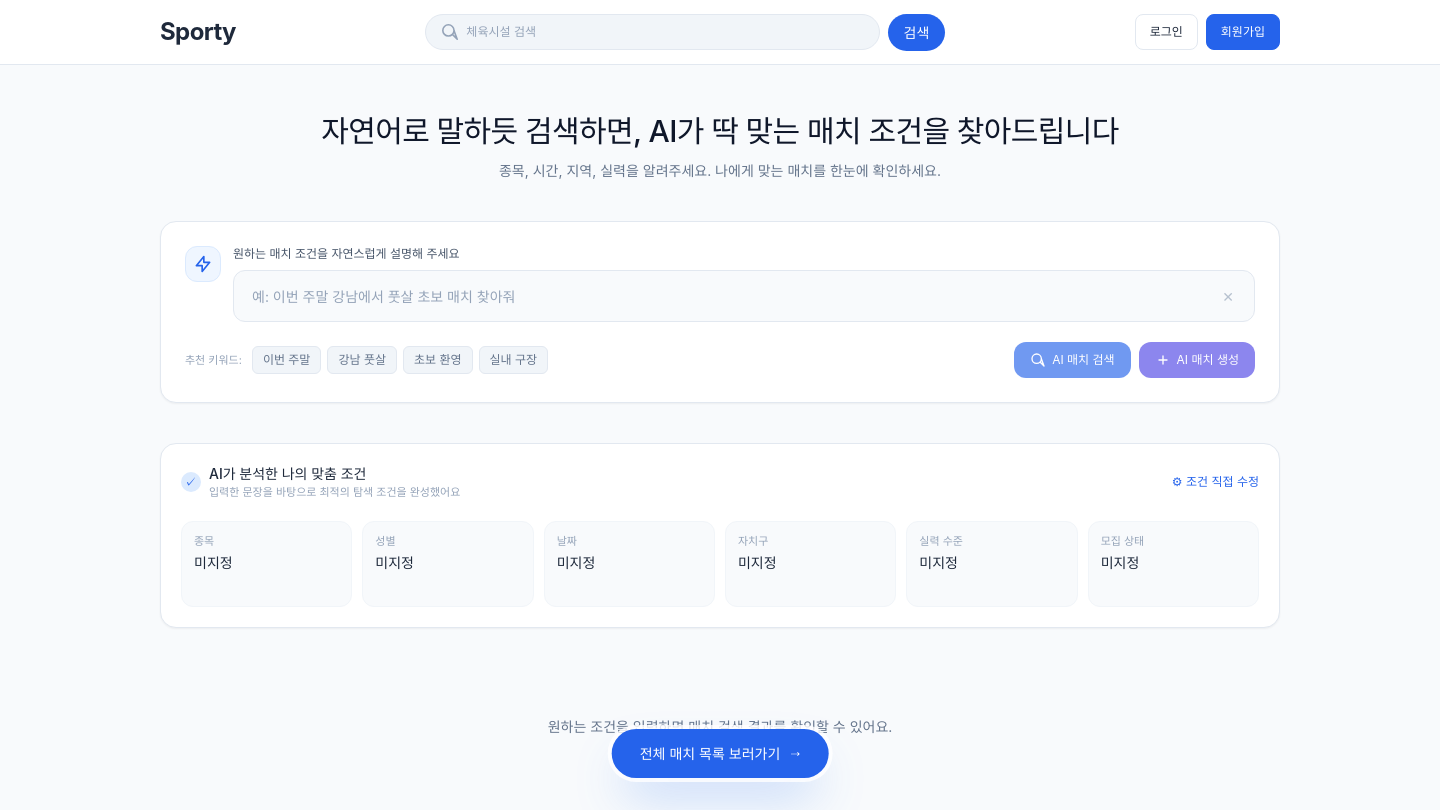
Scenario: [AI-02] AI 검색 후 조건 직접 수정을 누르면 AI가 분석한 조건이 폼에 채워진다
Type "송파구 초보 풋살" into the field labelled "원하는 매치 조건을 자연스럽게 설명해 주세요" at coordinates (732, 296), box left=250, top=272, right=1214, bottom=320
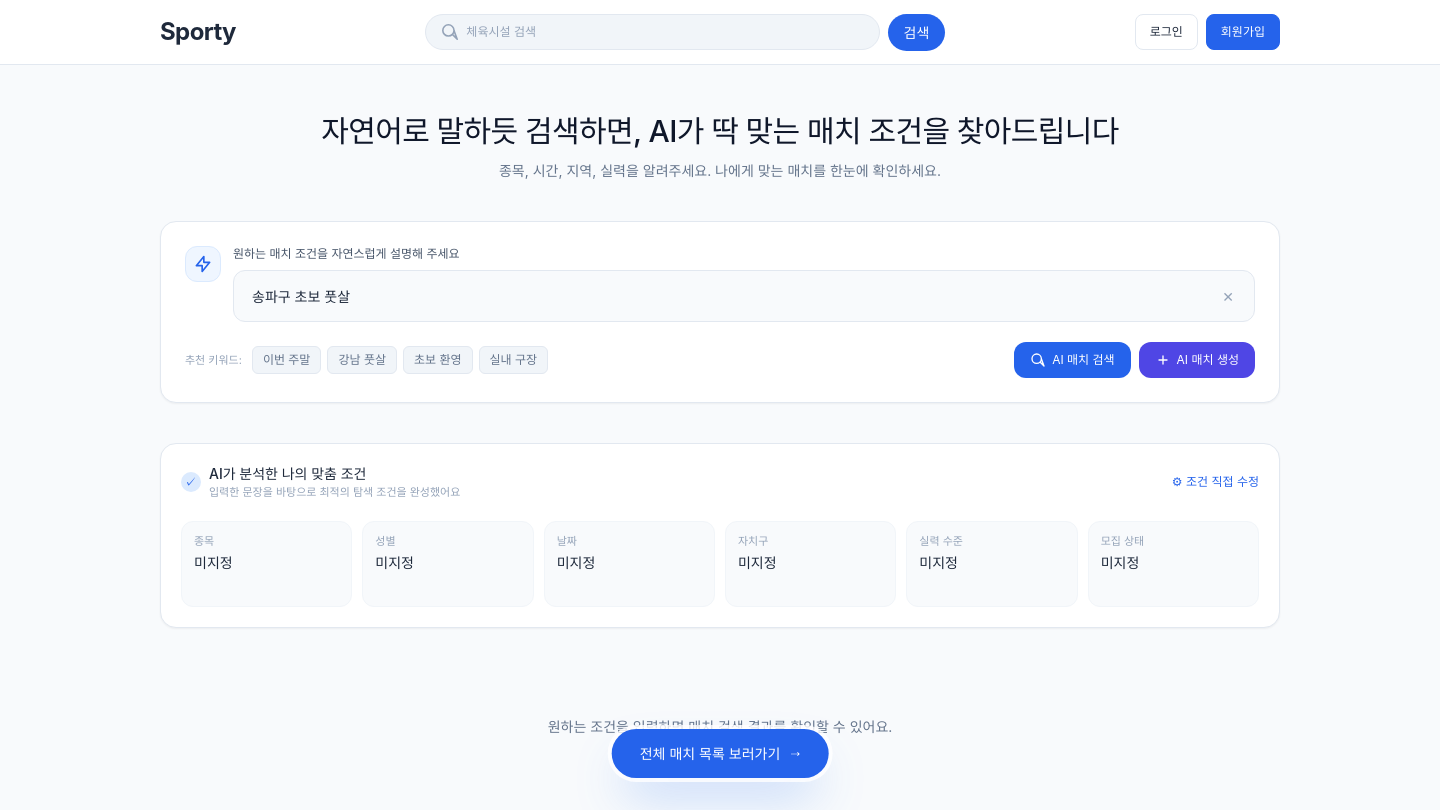
Click the button "AI 매치 검색" at coordinates (1072, 360), box left=1014, top=342, right=1131, bottom=378
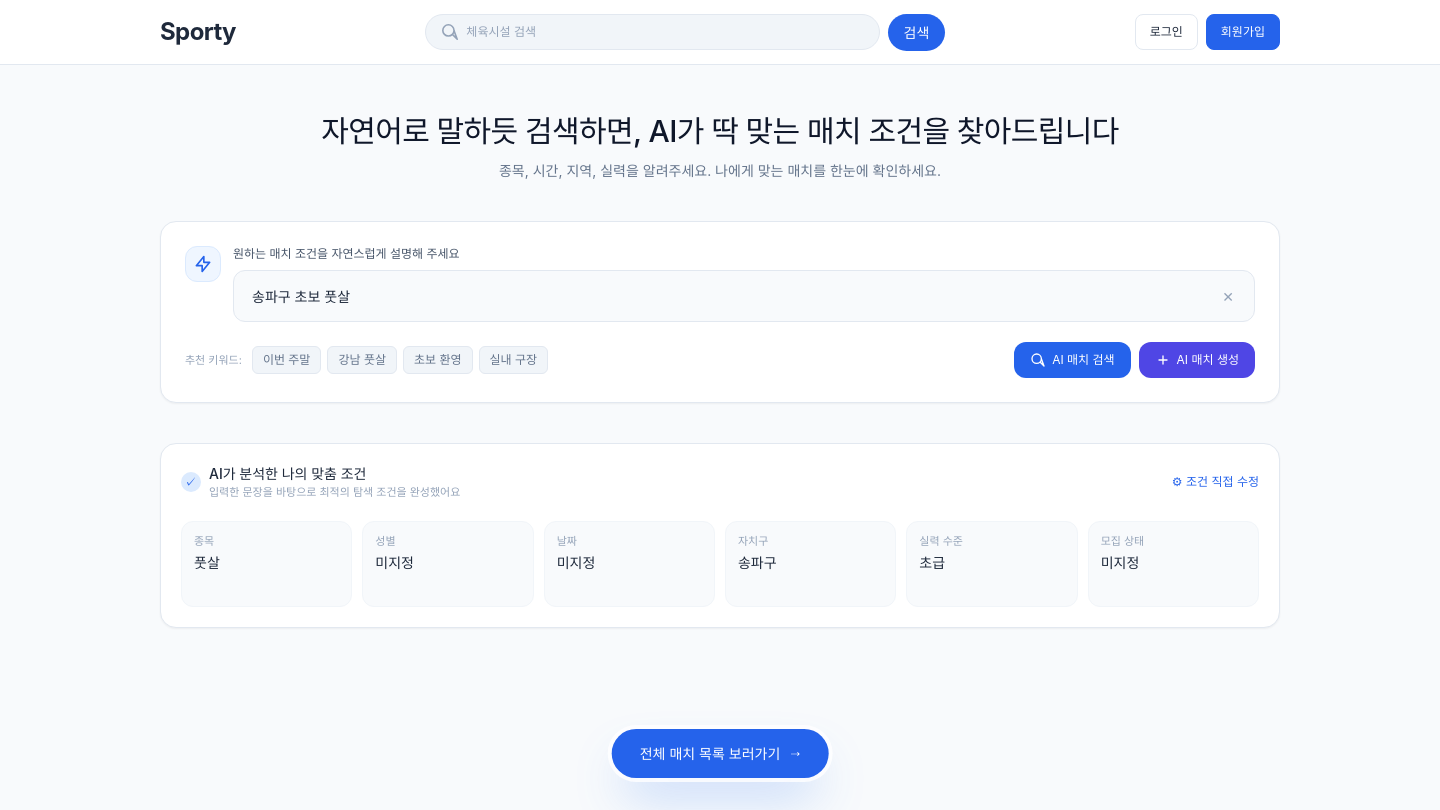
Click the button "⚙ 조건 직접 수정" at coordinates (1215, 482), box left=1172, top=473, right=1259, bottom=491
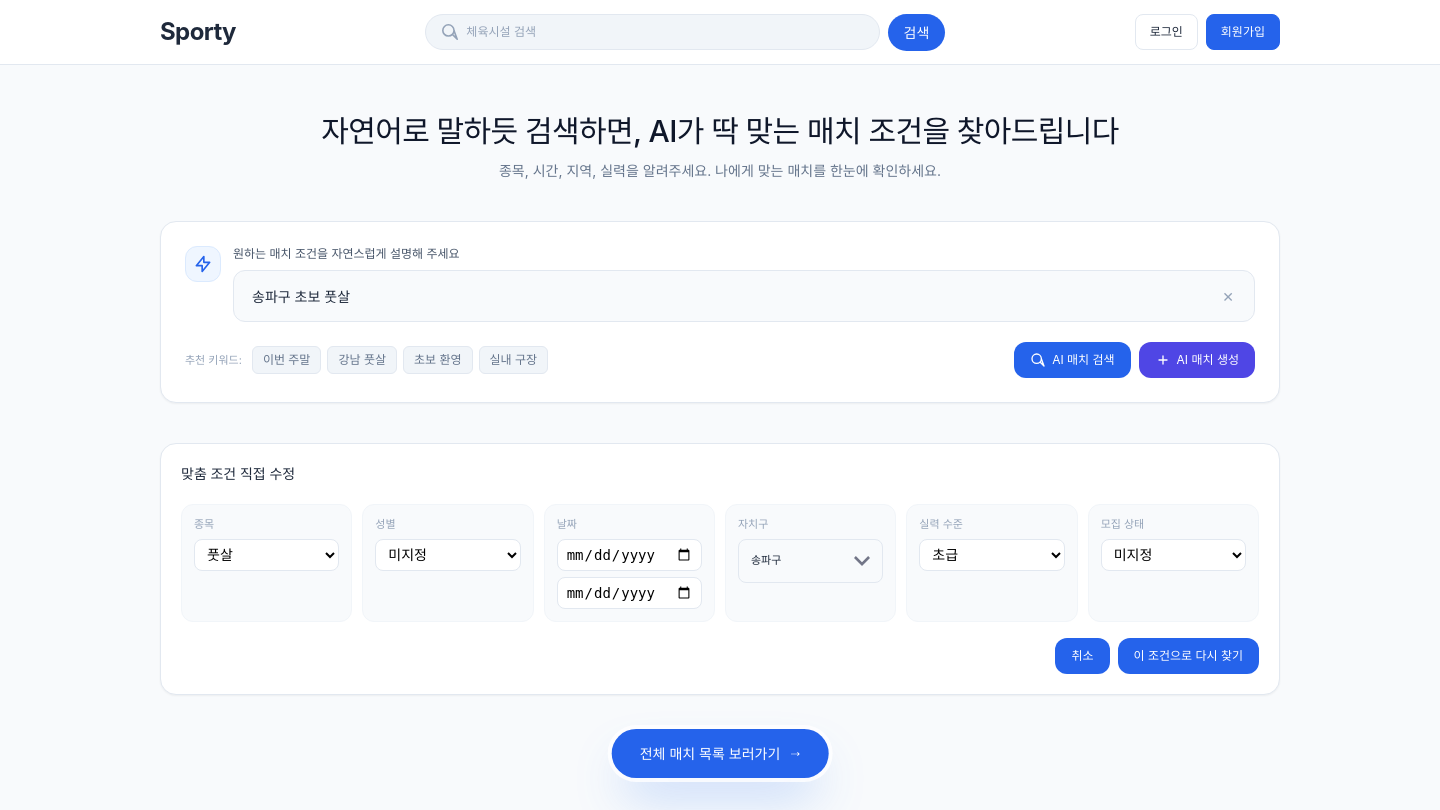
Expected: the dropdown labelled "종목" shows "풋살", left=194, top=538, right=339, bottom=570
Expected: the dropdown labelled "자치구" shows "송파구", left=738, top=538, right=883, bottom=582
Expected: the dropdown labelled "실력 수준" shows "초급", left=919, top=538, right=1065, bottom=570
